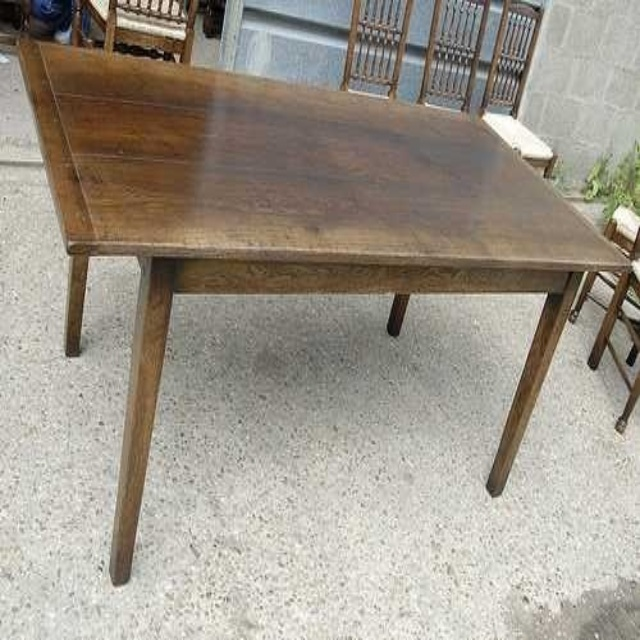obstacle: (19, 40, 628, 583)
